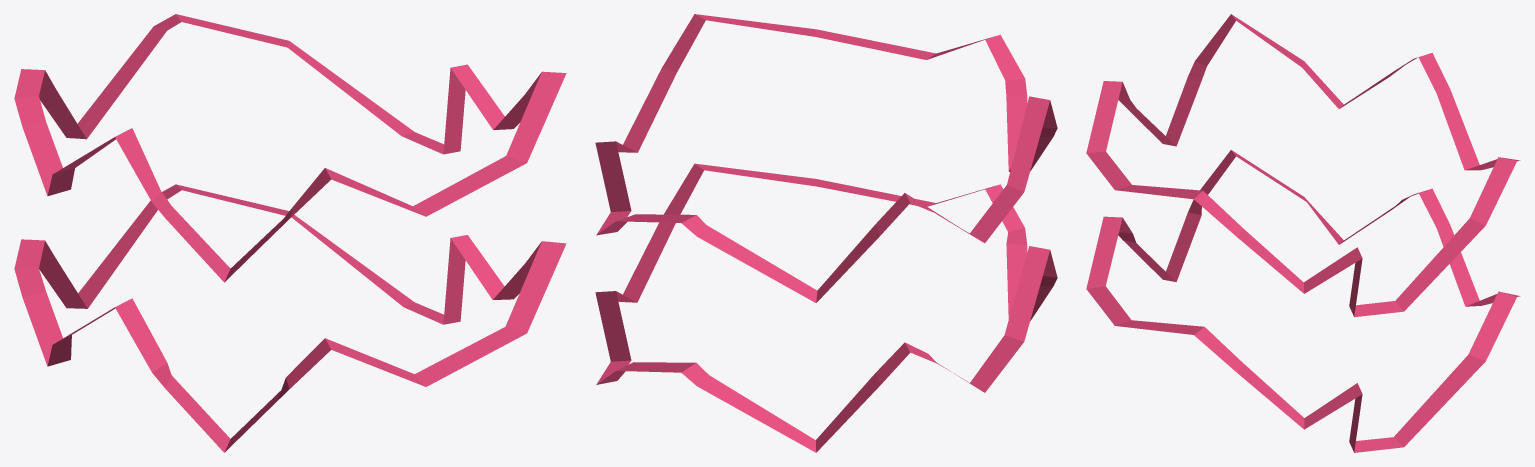
File: GlassBroken_Notify.fbx
3 renders of one model, left to right at view 1: azimuth 30°, elevation 25°; view 2: azimuth 150°, elevation 25°; view 3: azimuth 270°, elevation 25°, orthographic. The views are drawn at different scales.
Visible parts, largest first — view 1: Cylinder.002, Cylinder.003; view 2: Cylinder.002, Cylinder.003; view 3: Cylinder.002, Cylinder.003.
Part boxes in pixels (bbox=[...]): Cylinder.002: bbox=[14, 14, 566, 282]; Cylinder.003: bbox=[14, 184, 566, 452]; Cylinder.002: bbox=[595, 14, 1057, 302]; Cylinder.003: bbox=[595, 163, 1057, 452]; Cylinder.002: bbox=[1086, 14, 1520, 317]; Cylinder.003: bbox=[1086, 150, 1520, 452].
Size of the model in its own units: 215 by 154 by 220.
